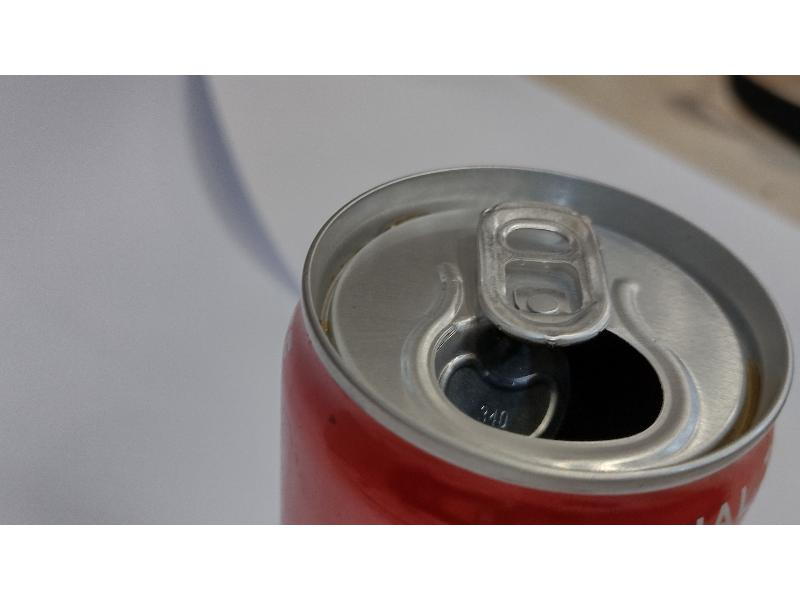can: (265, 152, 800, 524)
